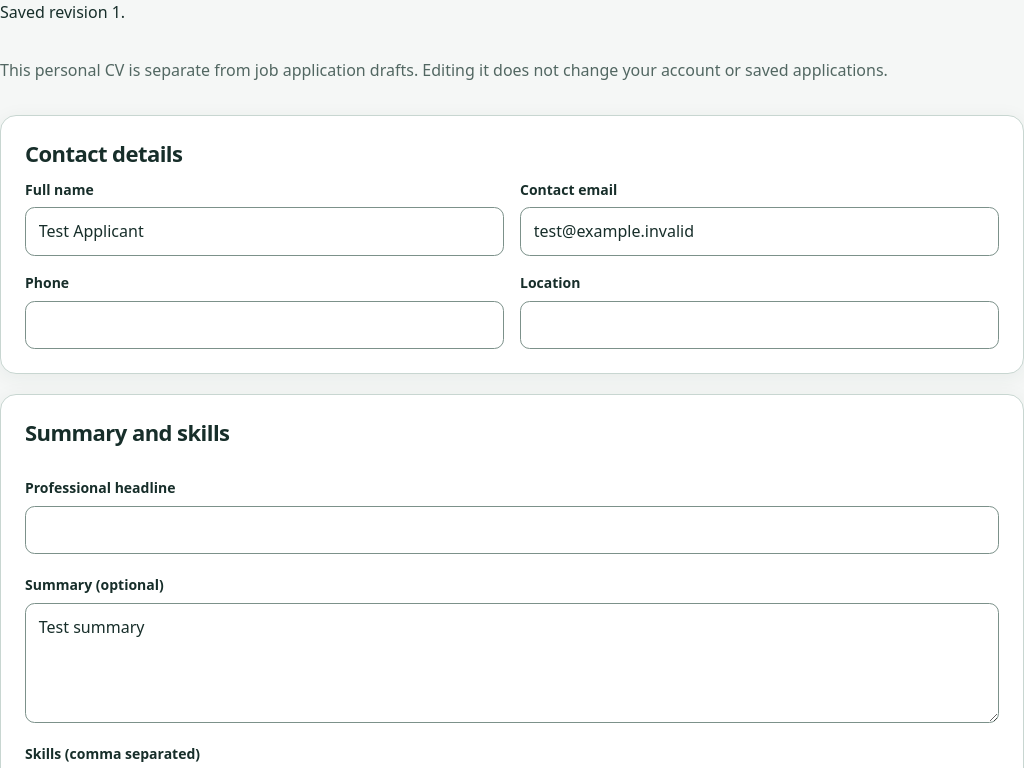
Test: keeps edits on conflict and prevents repeated stale saves
Replace the text in the field labelled "Full name" with "Unsaved Name" at (264, 232), box [25,207,504,256]
(page scrolled)
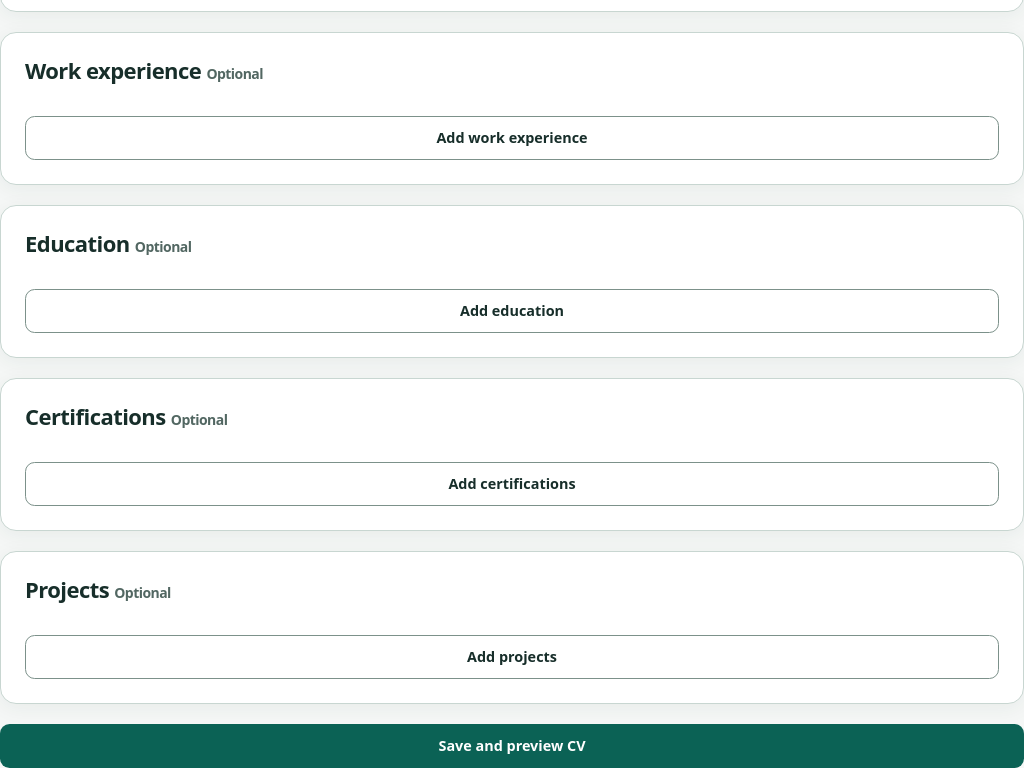
Click the button "Save and preview CV" at (512, 746), box [0,724,1023,767]
(page scrolled)
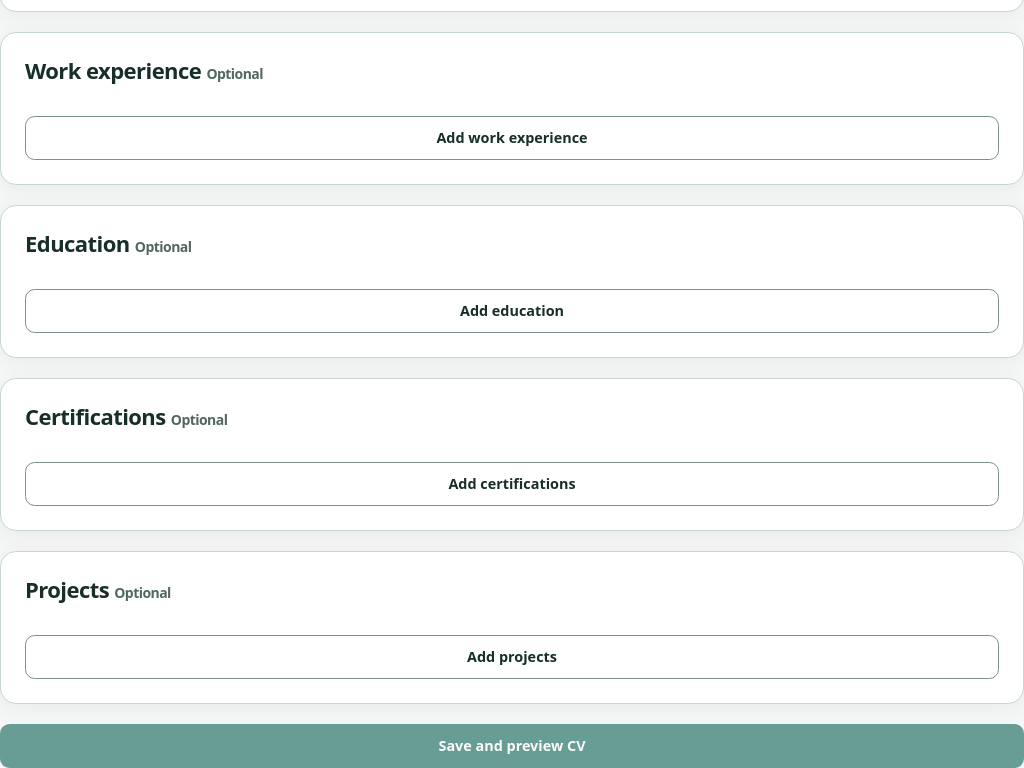
expect the button "Save and preview CV" is disabled: met, box [0,724,1023,767]
